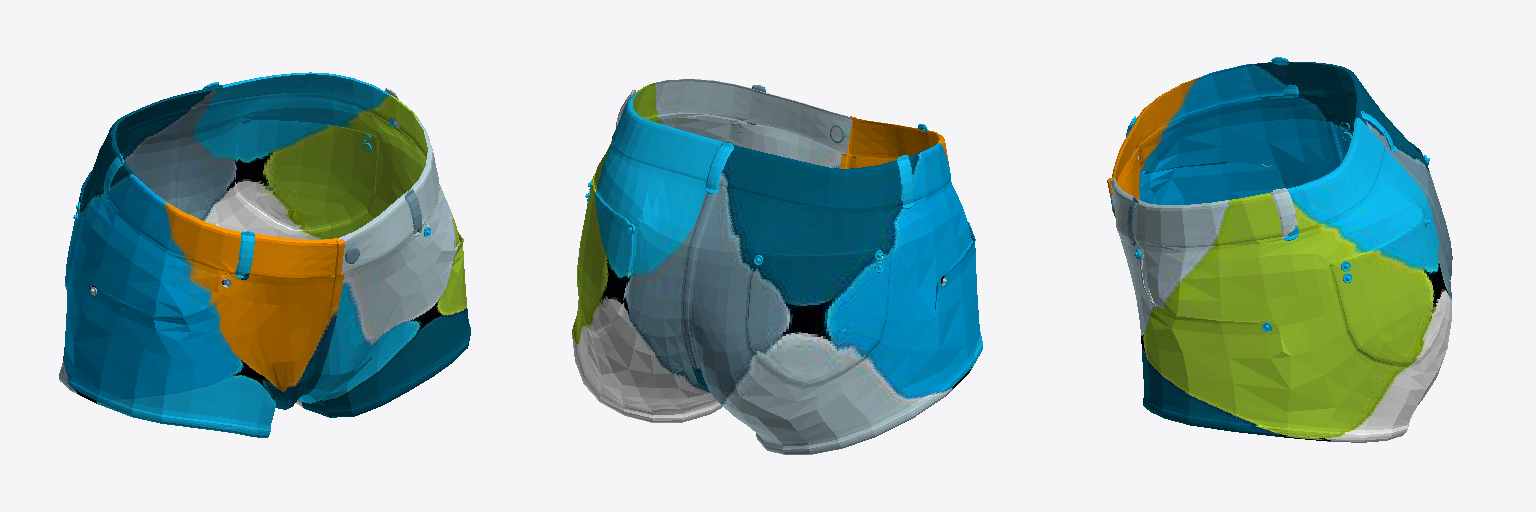
The picture shows the model from 3 angles: view 1: azimuth 30°, elevation 25°; view 2: azimuth 150°, elevation 25°; view 3: azimuth 270°, elevation 25°; orthographic projection.
Parts seen in each view (by area): view 1: short_jeans; view 2: short_jeans; view 3: short_jeans.
Boxes of the visible parts, box(x1,y1,x2,y2) form: short_jeans: box(59, 72, 470, 437); short_jeans: box(572, 79, 982, 454); short_jeans: box(1107, 57, 1452, 442).
Bounding box in the file's own units: 43.33 × 32.52 × 35.43.
1 materials, 1 textured.